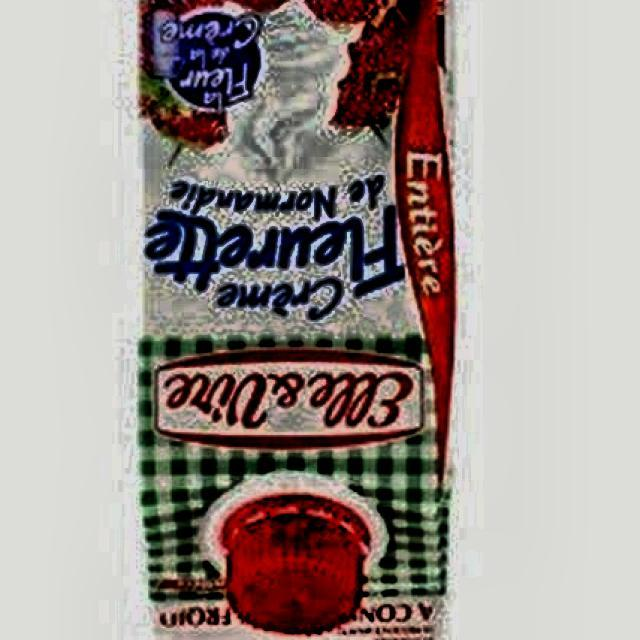cardboard: (134, 0, 460, 640)
